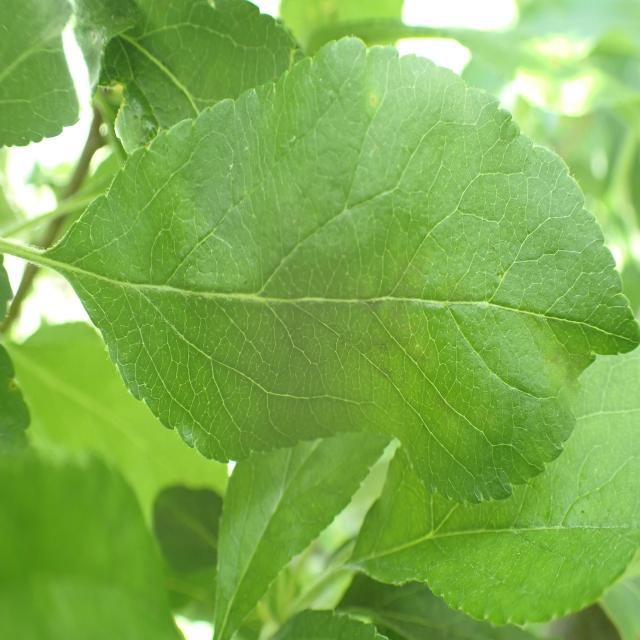scab: (151, 193, 554, 466)
